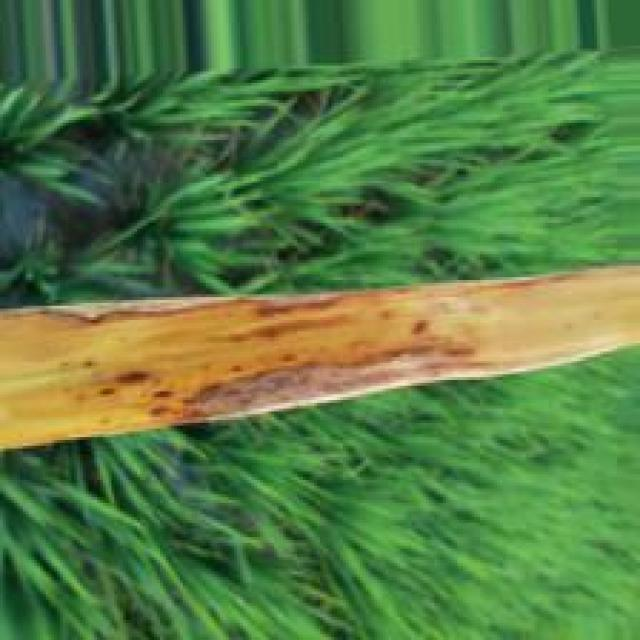Rice False Smut: (0, 266, 639, 446)
